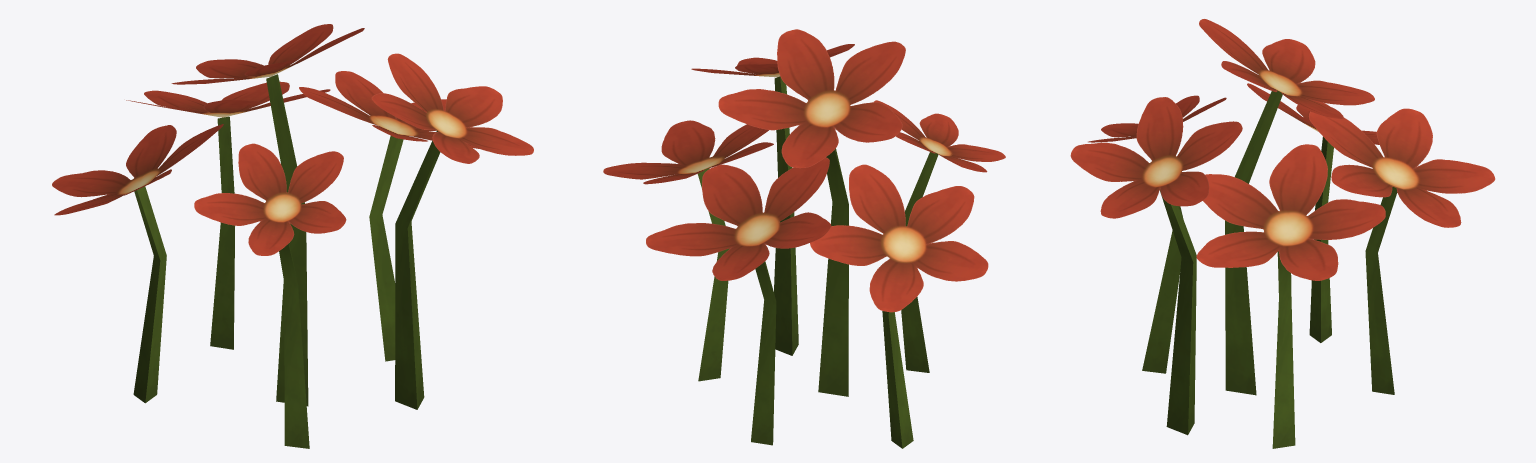
Rendered from flower4.fbx.
The picture shows the model from 3 angles, left to right: view 1: azimuth 30°, elevation 25°; view 2: azimuth 150°, elevation 25°; view 3: azimuth 270°, elevation 25°; orthographic projection. The views are drawn at different scales.
Parts seen in each view (by area): view 1: polySurface2269; view 2: polySurface2269; view 3: polySurface2269.
Boxes of the visible parts, left/top/right/bottom form: polySurface2269: left=52, top=24, right=533, bottom=448; polySurface2269: left=603, top=29, right=1005, bottom=448; polySurface2269: left=1070, top=19, right=1495, bottom=448.
Size of the model in its own units: 0.8219 by 0.6465 by 0.7654.
